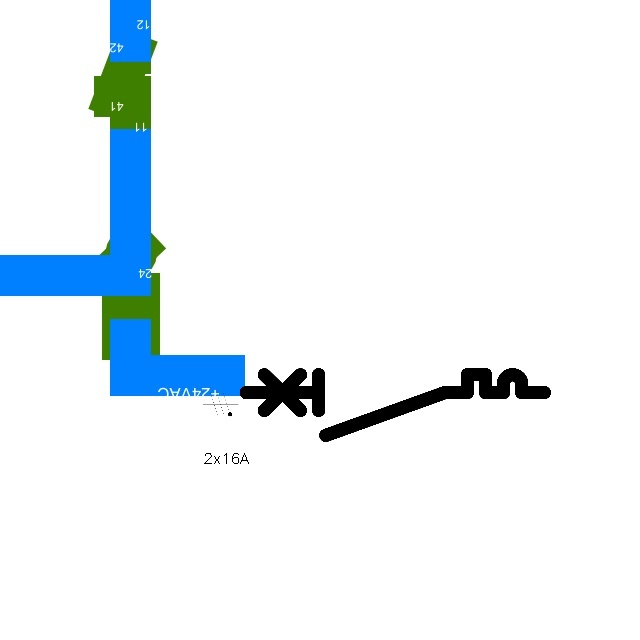interruptor_termomagnetico: (238, 367, 551, 443)
